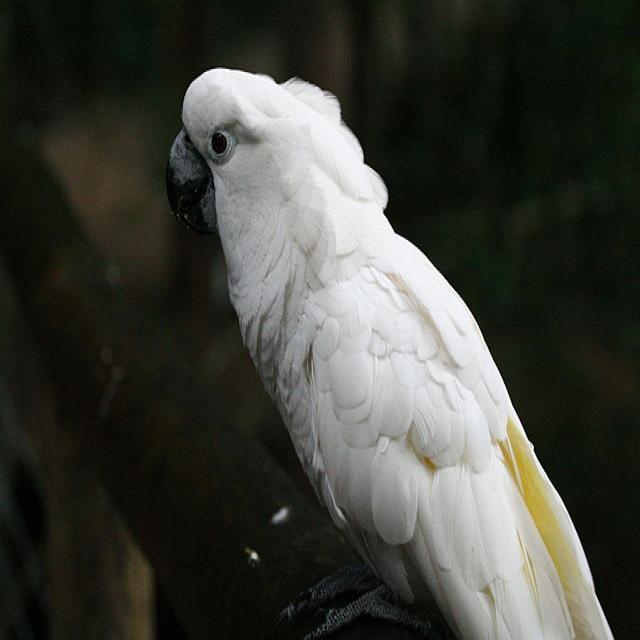Kakatua Putih: (140, 36, 629, 640)
